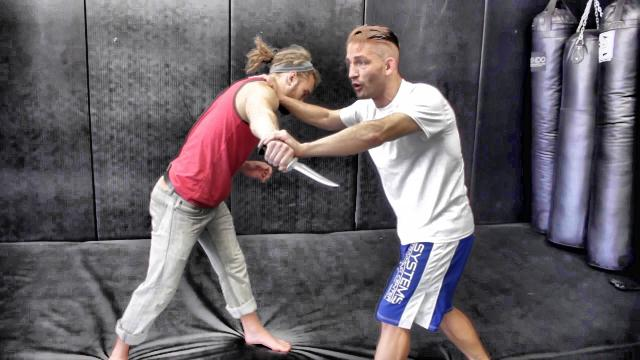knife: (256, 143, 344, 193)
